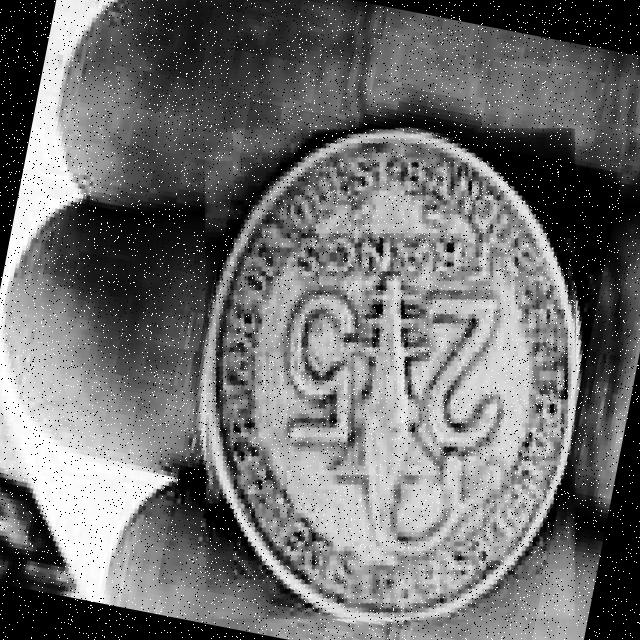juroom derem: (205, 129, 575, 619)
